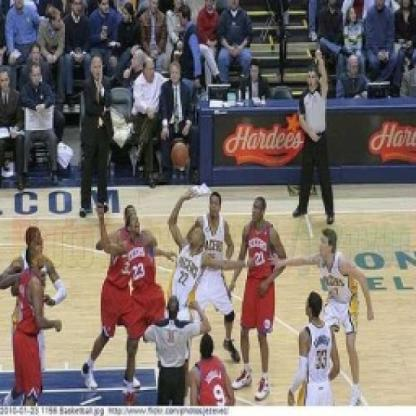basketball: (171, 142, 190, 166)
